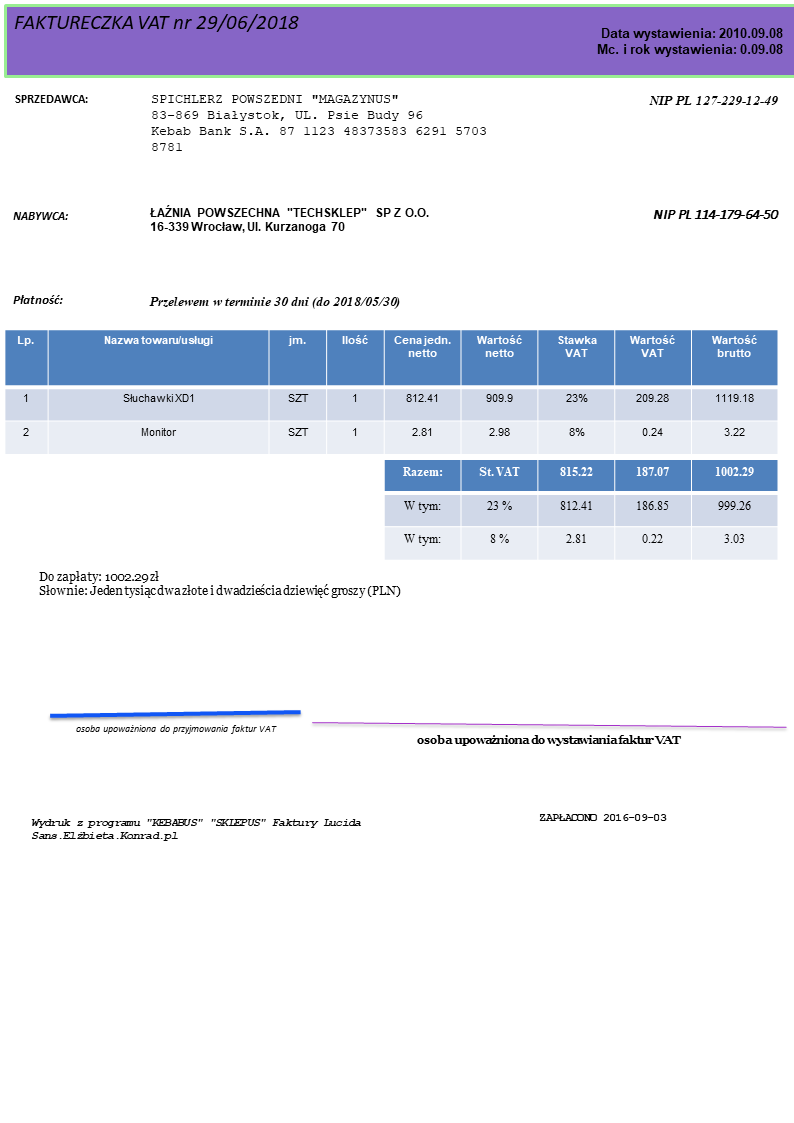Table: (2, 328, 780, 456), (383, 458, 779, 561)
TextBox: (149, 90, 489, 154), (36, 568, 402, 600), (29, 814, 363, 842), (148, 202, 430, 234), (12, 11, 301, 34), (594, 24, 785, 58), (146, 293, 403, 312), (415, 730, 683, 748), (72, 722, 278, 736), (647, 92, 780, 109), (651, 207, 782, 222), (537, 810, 668, 825), (12, 91, 91, 106), (9, 208, 72, 223), (11, 291, 65, 307)
